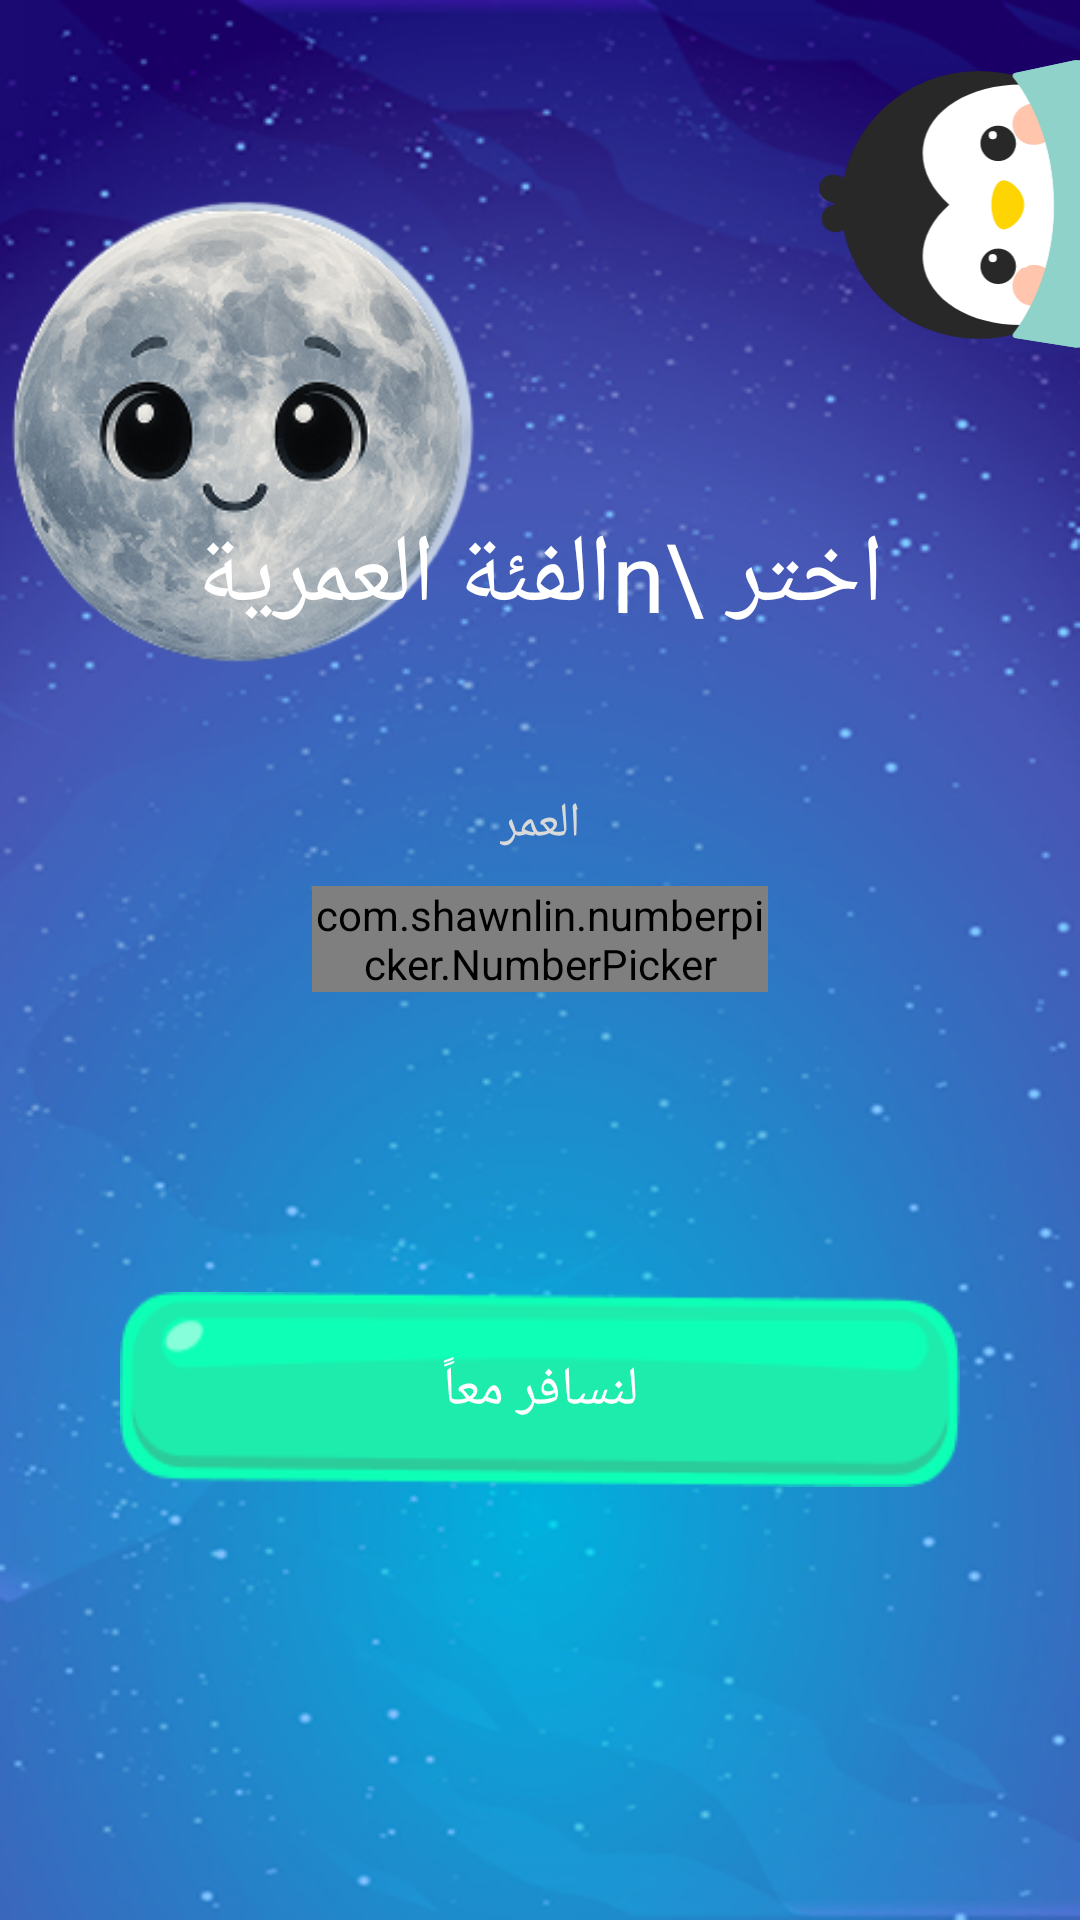

Where to tap for icons on this 1080 × 1920 app screen, as [x,y]:
character: [937,205]
